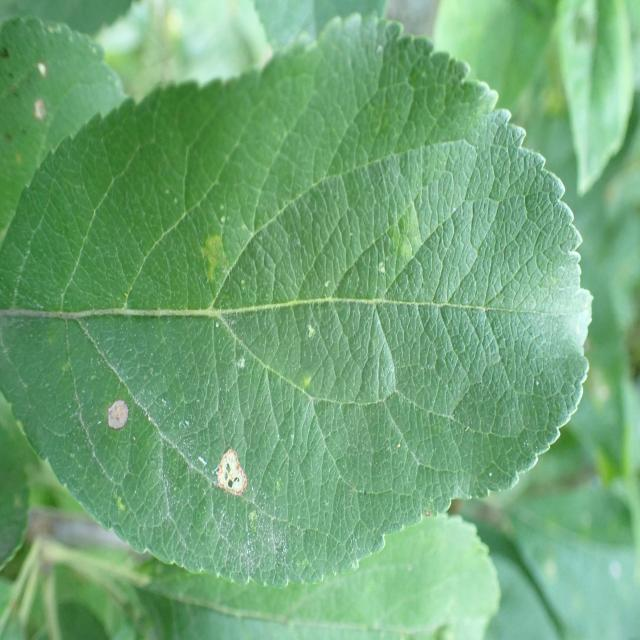frog-eye-leaf-spot: (0, 12, 595, 589)
